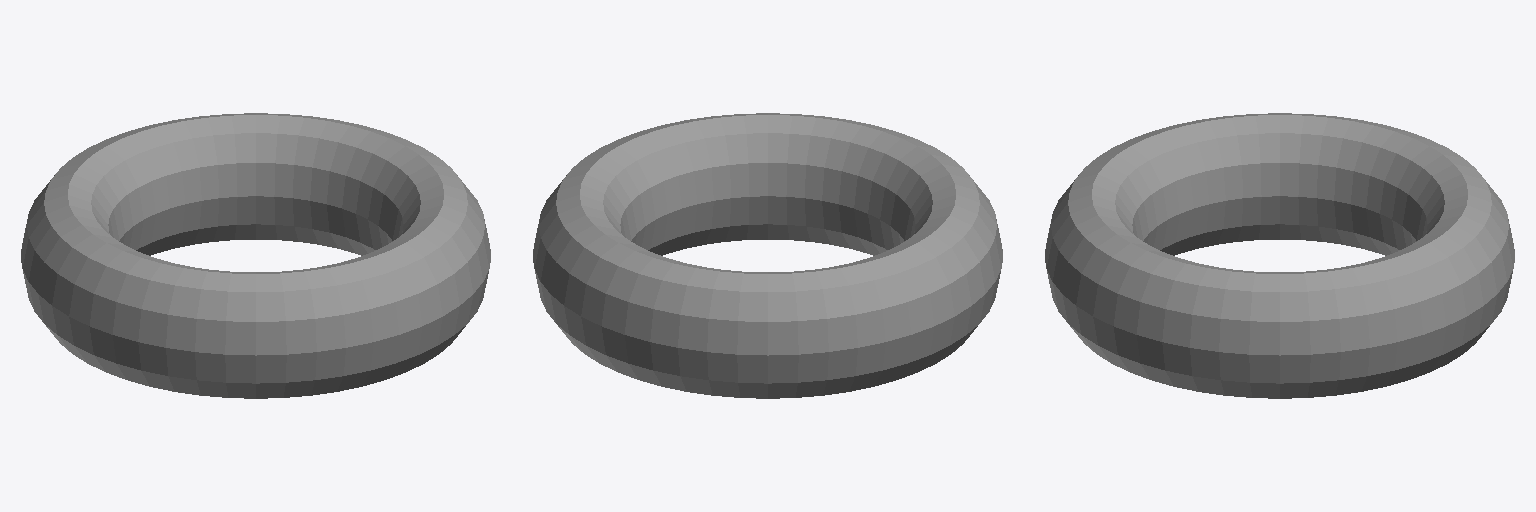
The model's file is cheerio.obj.
The picture shows the model from 3 angles: view 1: azimuth 30°, elevation 25°; view 2: azimuth 150°, elevation 25°; view 3: azimuth 270°, elevation 25°; orthographic projection.
Parts seen in each view (by area): view 1: Torus; view 2: Torus; view 3: Torus.
Part boxes in pixels (x1,y1,x2,y2): Torus: (21, 113, 490, 398); Torus: (533, 113, 1002, 398); Torus: (1045, 113, 1514, 398).
Bounding box in the file's own units: 3.75 × 1.08 × 3.75.